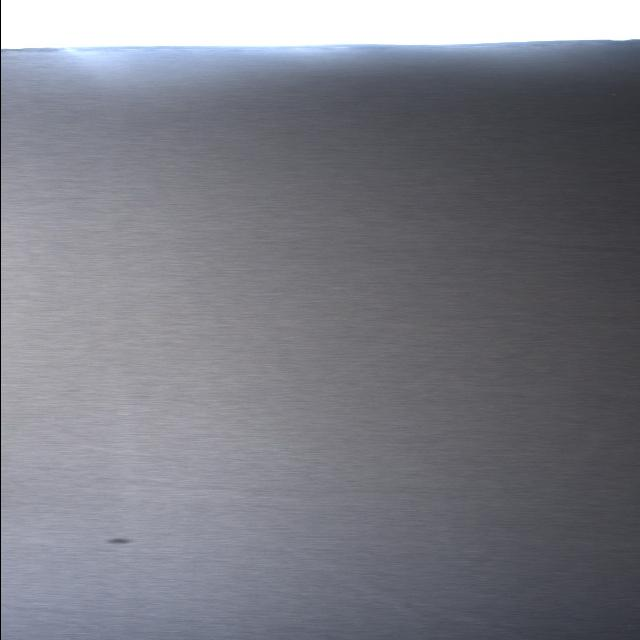crease: (230, 525, 541, 640), (482, 235, 638, 255)
